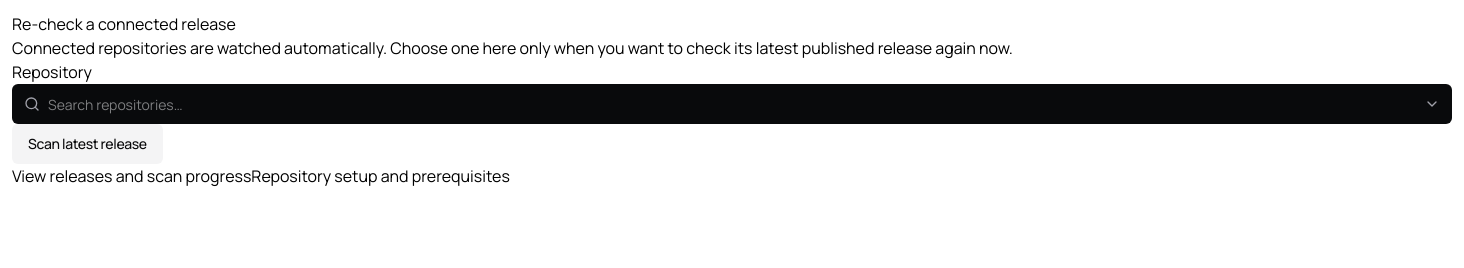
Test: clears queued claims when the actual tracked job has failed
The width and height of the screenshot is (1464, 268).
Click the dropdown named "Repository": x=732, y=104 [12,84,1452,124]
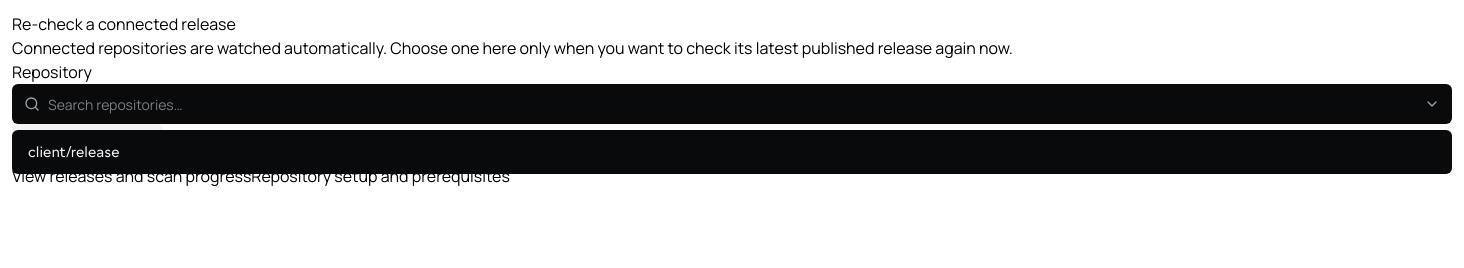
Click the option "client/release": x=74, y=152 [28,144,120,160]
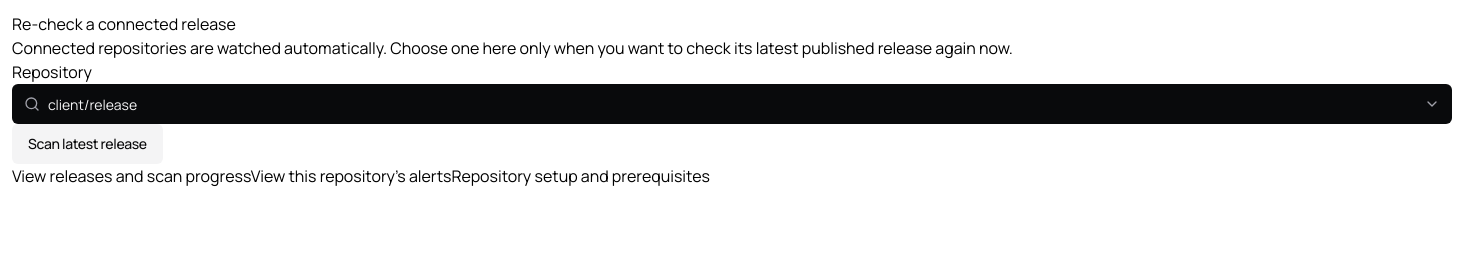
Click the button "Scan latest release": x=87, y=144 [12,124,163,164]
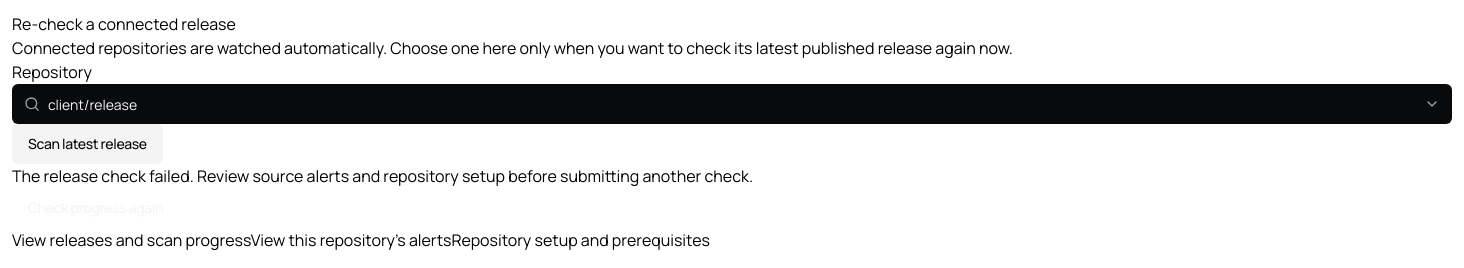
Expected: the button "Scan latest release" is enabled, [12,124,163,164]
Expected: the text "The release check failed" is shown, [12,165,753,187]
